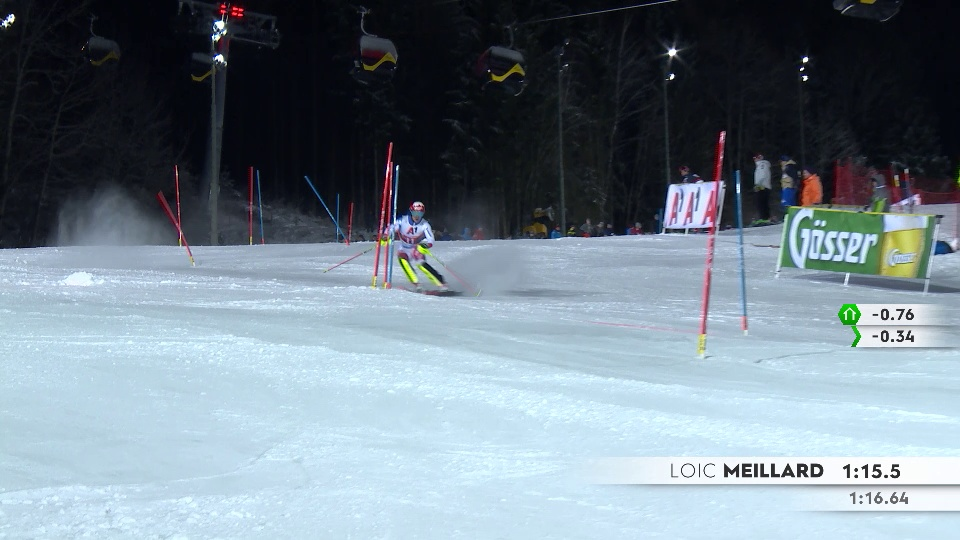a1: (668, 192, 686, 228)
goesser: (781, 209, 919, 276)
